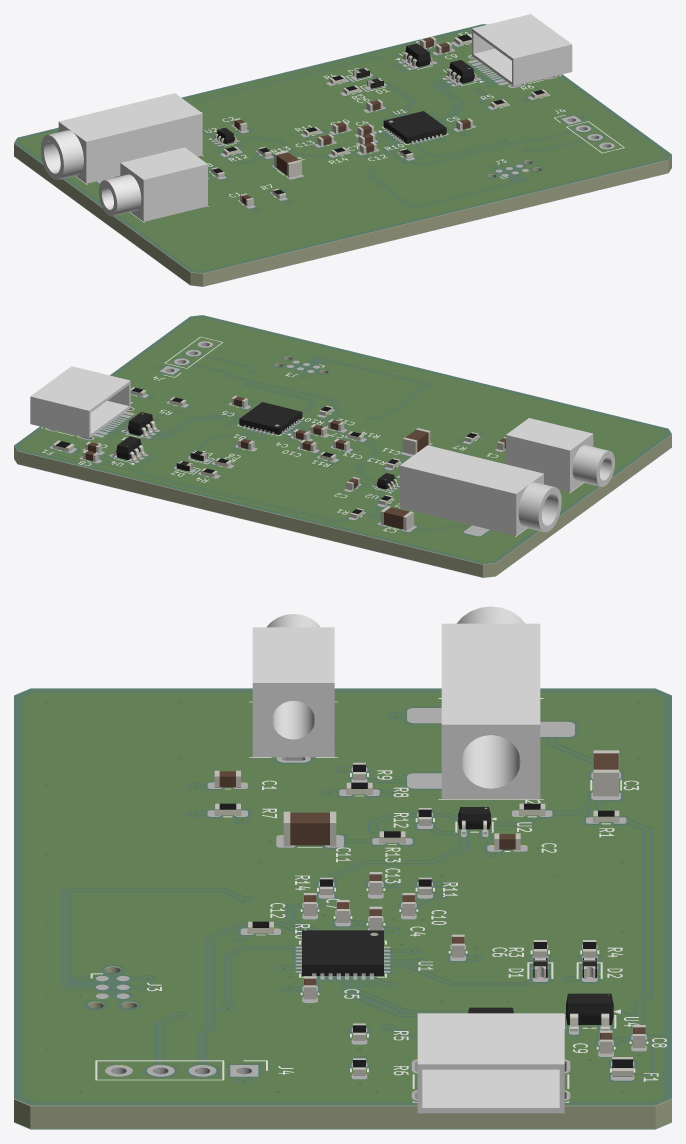
The model's file is board.glb.
The picture shows the model from 3 angles, top to bottom: view 1: azimuth 30°, elevation 25°; view 2: azimuth 150°, elevation 25°; view 3: azimuth 270°, elevation 25°; orthographic projection. The views are drawn at different scales.
Parts seen in each view (by area): view 1: radio-mic-usb-ptt_soldermask (×2), radio-mic-usb-ptt_copper, radio-mic-usb-ptt_PCB, =>[0:1:1:21], =>[0:1:1:17], =>[0:1:1:19], radio-mic-usb-ptt_pad, radio-mic-usb-ptt_silkscreen, =>[0:1:1:11], =>[0:1:1:15], =>[0:1:1:13], =>[0:1:1:25]; view 2: radio-mic-usb-ptt_soldermask (×2), radio-mic-usb-ptt_copper, radio-mic-usb-ptt_PCB, =>[0:1:1:21], =>[0:1:1:17], =>[0:1:1:19], radio-mic-usb-ptt_pad, radio-mic-usb-ptt_silkscreen, =>[0:1:1:11], =>[0:1:1:15] (×2), =>[0:1:1:13], =>[0:1:1:25]; view 3: radio-mic-usb-ptt_soldermask (×2), radio-mic-usb-ptt_copper, radio-mic-usb-ptt_PCB, =>[0:1:1:21], =>[0:1:1:19], =>[0:1:1:17], radio-mic-usb-ptt_pad, radio-mic-usb-ptt_silkscreen, =>[0:1:1:11], =>[0:1:1:15] (×2), =>[0:1:1:13], =>[0:1:1:7].
Part boxes in pixels (box(x1,y1,x2,y2)): radio-mic-usb-ptt_soldermask (×2): box(14, 24, 671, 286); radio-mic-usb-ptt_copper: box(20, 30, 665, 270); radio-mic-usb-ptt_PCB: box(14, 25, 671, 286); =>[0:1:1:21]: box(40, 93, 202, 183); =>[0:1:1:17]: box(98, 147, 207, 221); =>[0:1:1:19]: box(472, 14, 572, 86); radio-mic-usb-ptt_pad: box(96, 41, 614, 208); radio-mic-usb-ptt_silkscreen: box(75, 31, 624, 222); =>[0:1:1:11]: box(383, 111, 446, 143); =>[0:1:1:15]: box(274, 150, 301, 177); =>[0:1:1:13]: box(401, 43, 434, 68); =>[0:1:1:25]: box(445, 60, 478, 85); radio-mic-usb-ptt_soldermask (×2): box(14, 315, 671, 577); radio-mic-usb-ptt_copper: box(20, 318, 665, 561); radio-mic-usb-ptt_PCB: box(14, 316, 671, 577); =>[0:1:1:21]: box(399, 445, 561, 535); =>[0:1:1:17]: box(506, 418, 614, 492); =>[0:1:1:19]: box(30, 366, 130, 438); radio-mic-usb-ptt_pad: box(45, 341, 505, 536); radio-mic-usb-ptt_silkscreen: box(41, 336, 583, 536); =>[0:1:1:11]: box(239, 402, 302, 434); =>[0:1:1:15] (×2): box(380, 428, 430, 530); =>[0:1:1:13]: box(112, 436, 145, 461); =>[0:1:1:25]: box(124, 412, 157, 437); radio-mic-usb-ptt_soldermask (×2): box(14, 688, 671, 1129); radio-mic-usb-ptt_copper: box(23, 693, 662, 1101); radio-mic-usb-ptt_PCB: box(14, 690, 671, 1128); =>[0:1:1:21]: box(441, 606, 540, 798); =>[0:1:1:19]: box(417, 1013, 564, 1113); =>[0:1:1:17]: box(252, 614, 334, 757); radio-mic-usb-ptt_pad: box(96, 708, 646, 1100); radio-mic-usb-ptt_silkscreen: box(90, 698, 666, 1102); =>[0:1:1:11]: box(302, 930, 383, 976); =>[0:1:1:15] (×2): box(283, 750, 619, 846); =>[0:1:1:13]: box(566, 993, 613, 1031); =>[0:1:1:7]: box(458, 807, 490, 834).
Size of the model in its own units: 0.0622 by 0.00664 by 0.04.
